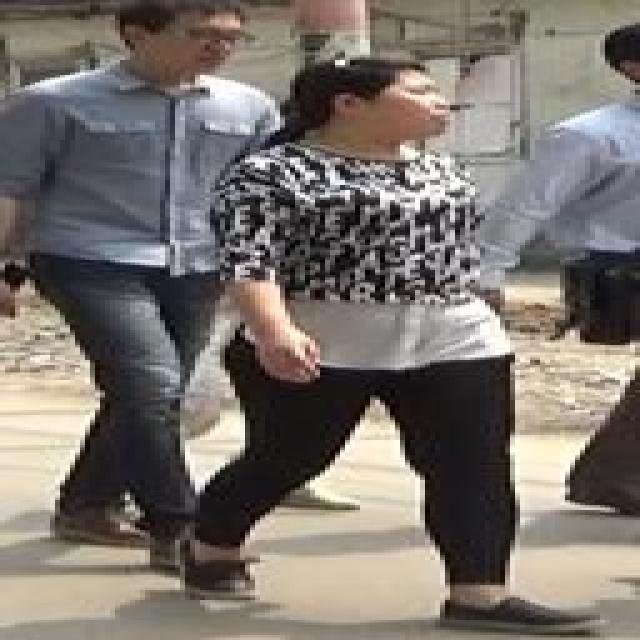adult: (201, 65, 559, 618), (0, 2, 291, 558), (465, 25, 640, 517)
